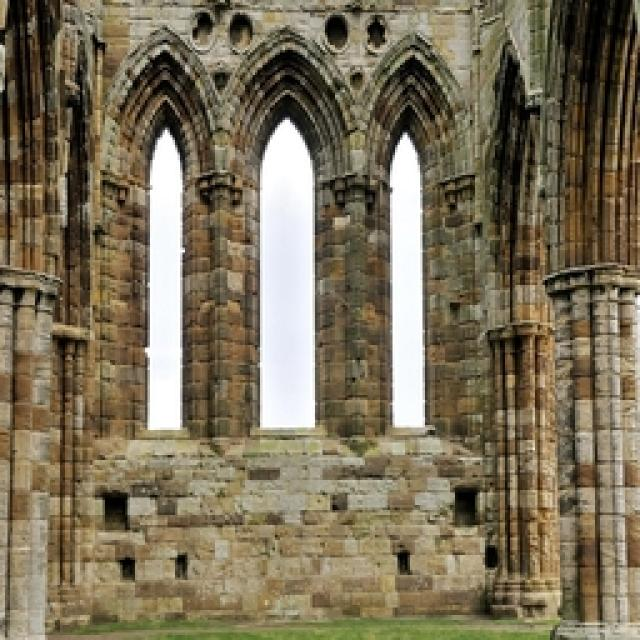Abbey: (1, 1, 640, 640)
